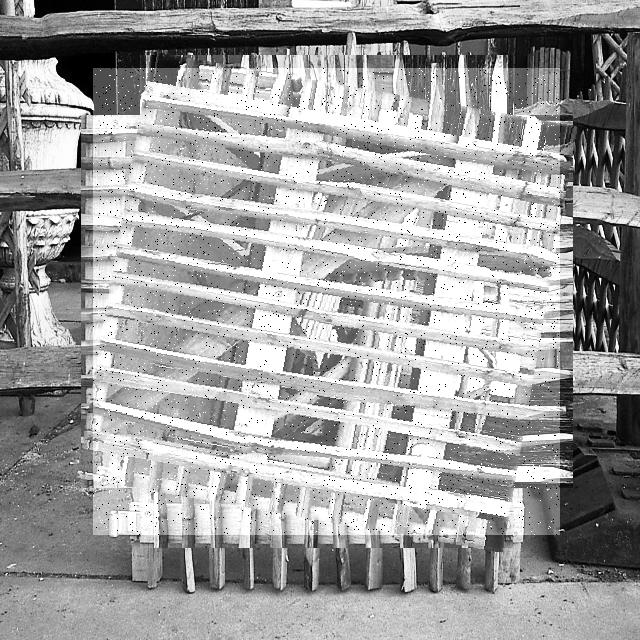fences: (93, 68, 560, 535)
